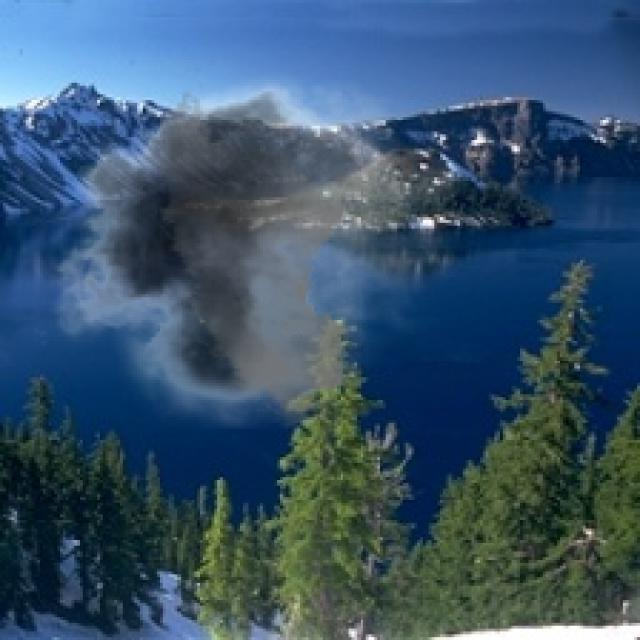Smoke: (34, 60, 457, 429)
